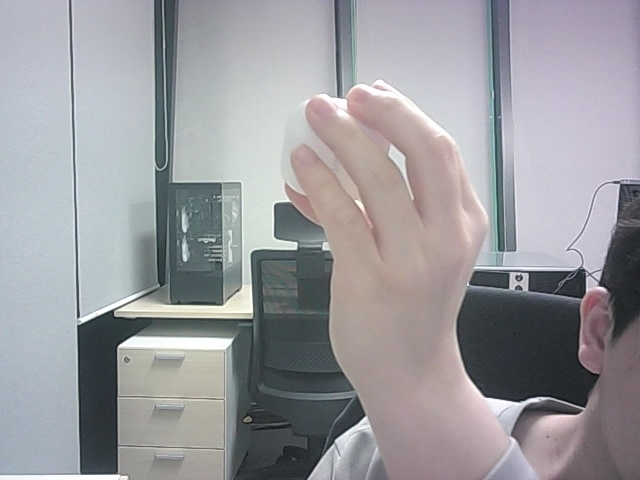case: (280, 100, 359, 199), (359, 122, 388, 153)
